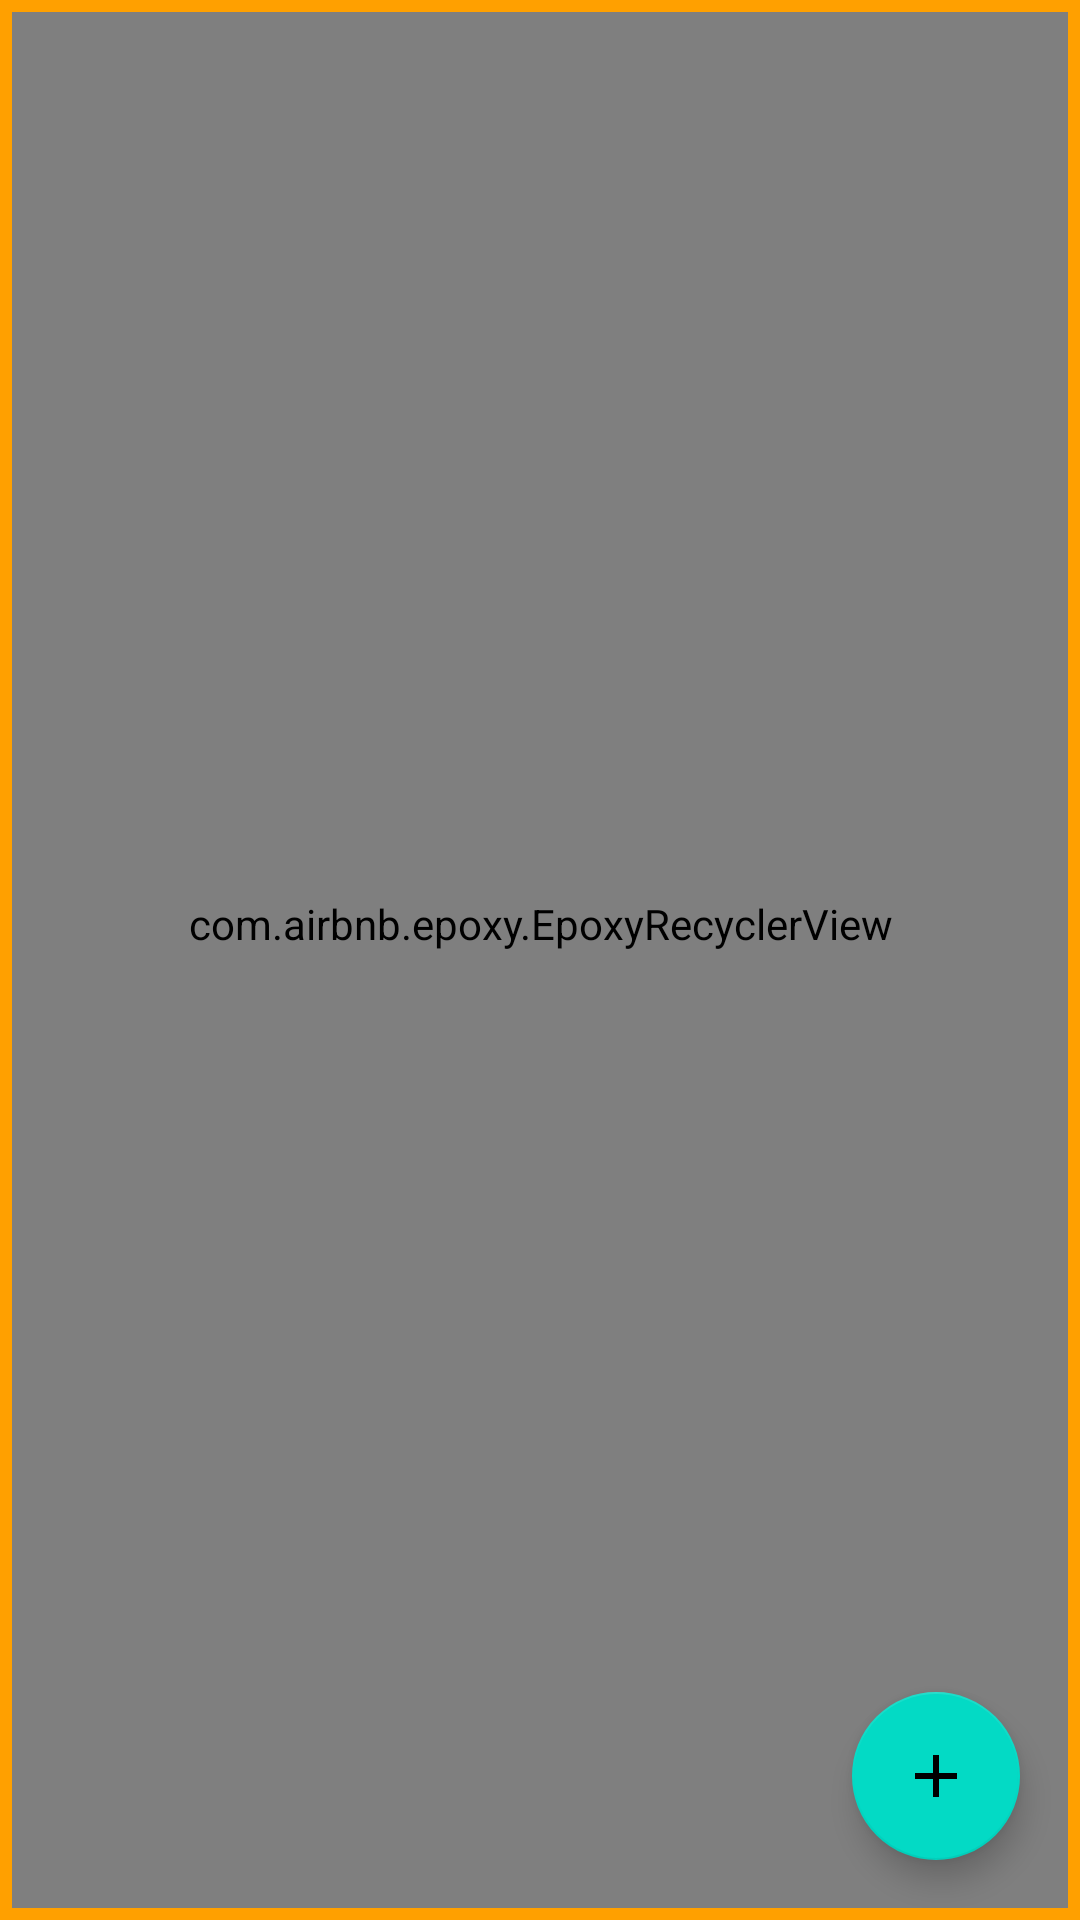

Named icons in this screenshot (1080px×1920px) and their bounding boxes, {"x1": x1, "y1": y1, "x2": x2, "y2": y2}:
add: {"x1": 852, "y1": 1692, "x2": 1020, "y2": 1860}
